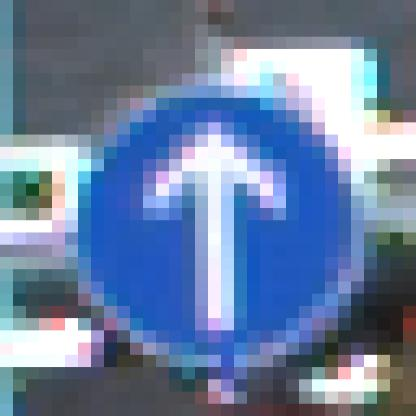AheadOnly: (66, 62, 352, 356)
